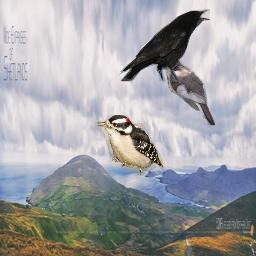Crow: (119, 8, 212, 87)
Cuckoo: (153, 53, 215, 128)
Woodpecker: (95, 115, 164, 176)
